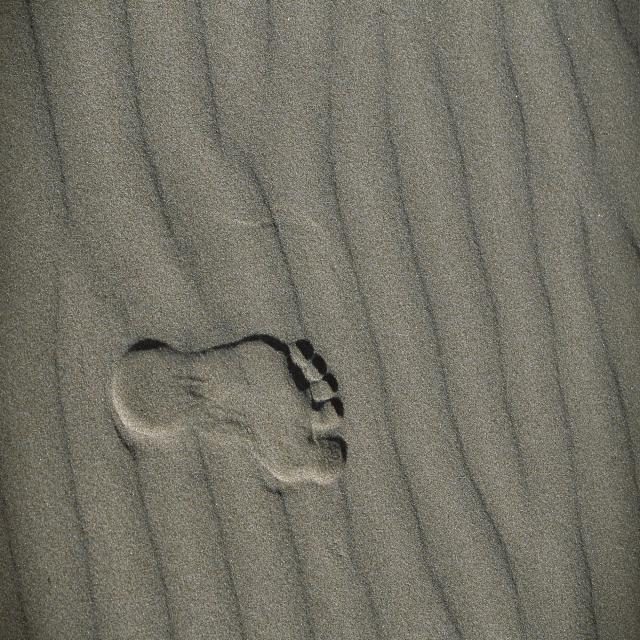human_footprint: (105, 329, 352, 497)
